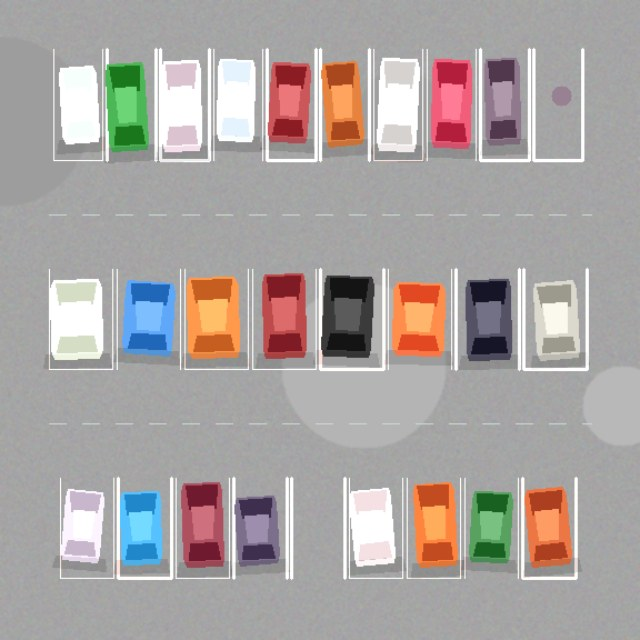space-empty: (533, 49, 582, 160), (291, 478, 344, 578)
space-occupied: (184, 269, 248, 369), (252, 269, 316, 369), (523, 269, 587, 369), (49, 269, 112, 369), (117, 269, 180, 369), (320, 269, 383, 369), (388, 269, 451, 369), (456, 269, 519, 369), (53, 49, 102, 160), (107, 49, 156, 160), (160, 49, 209, 160), (213, 49, 262, 160), (267, 49, 316, 160), (320, 49, 369, 160), (373, 49, 422, 160), (427, 49, 476, 160), (480, 49, 529, 160), (233, 478, 287, 578), (464, 478, 518, 578), (522, 478, 576, 578), (60, 478, 113, 578), (118, 478, 171, 578), (176, 478, 229, 578), (349, 478, 402, 578), (407, 478, 460, 578)
